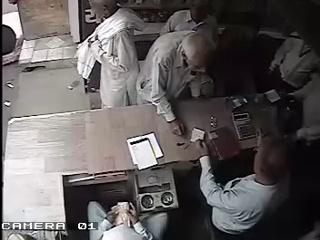Normal: (186, 128, 293, 240), (136, 30, 218, 136), (76, 0, 146, 109), (160, 1, 219, 46)
